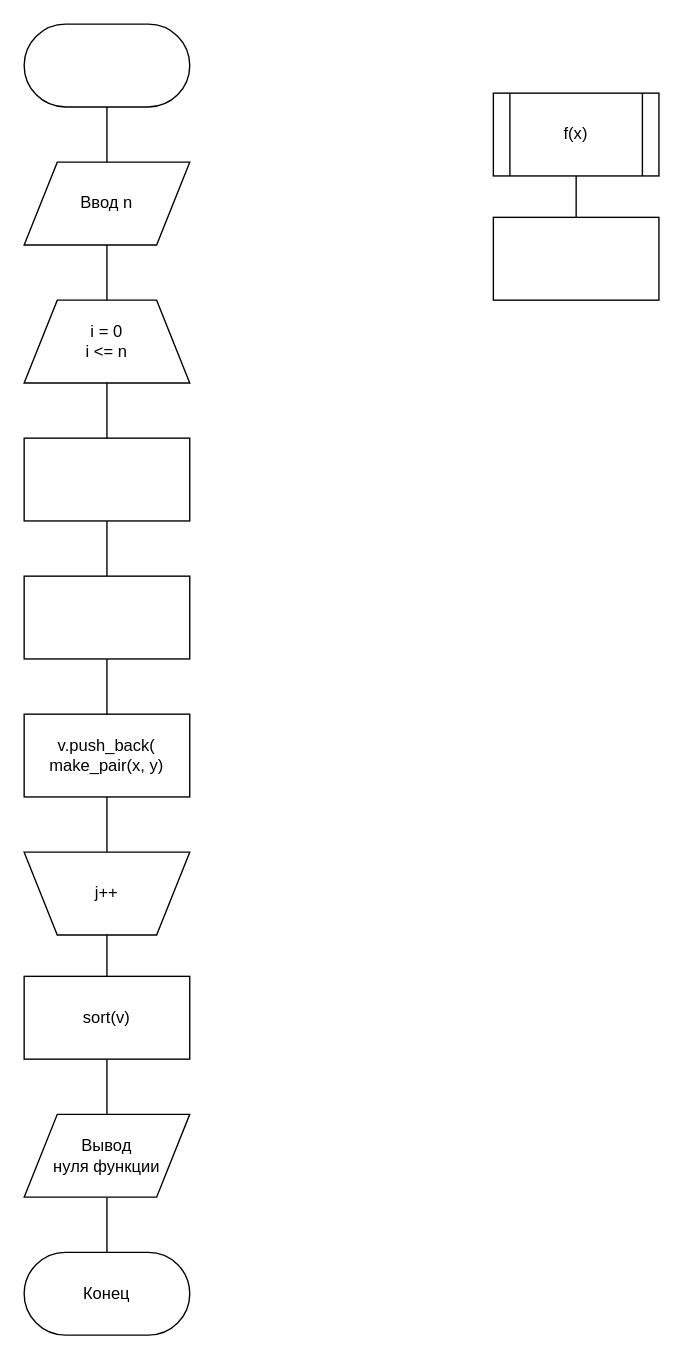
The diagram is 683 pixels wide and 1359 high, and some of its shapes have lost their labels. The centre of each missing label's shape, as x and y in pixels:
return exp(sin(x)) - sinh(x) * asin(x) - 2: pixel 575 258
x = -1 + i * 2.0 / n: pixel 106 479
y = f(x): pixel 106 617
Начало: pixel 106 65
